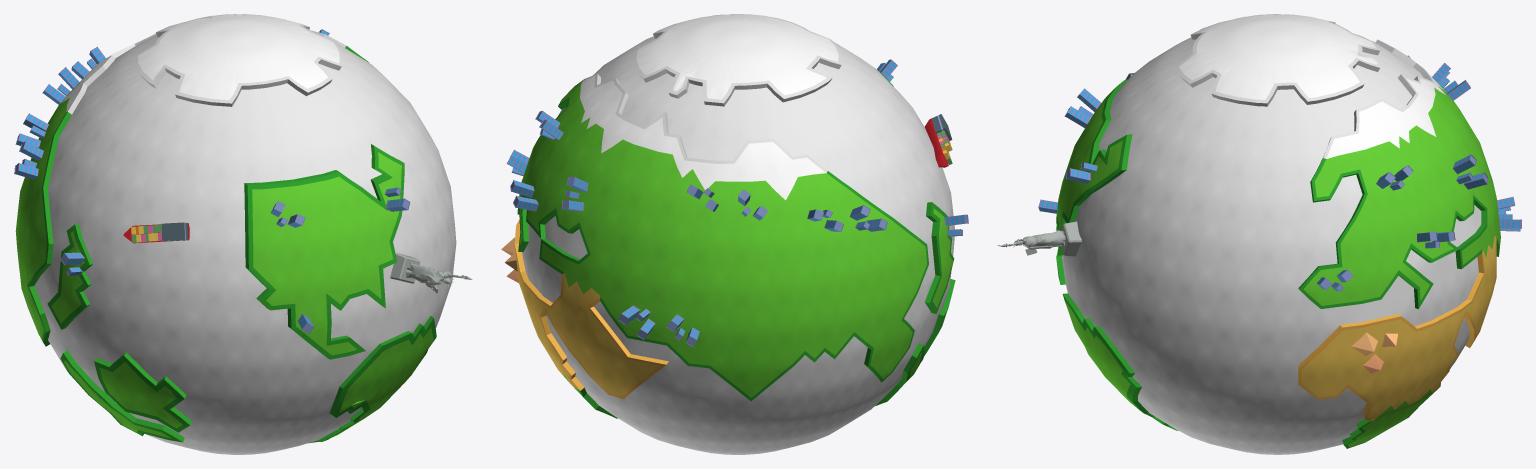
Rendered from Earth.fbx.
3 views of the same model, side by side, from view 1: azimuth 30°, elevation 25°; view 2: azimuth 150°, elevation 25°; view 3: azimuth 270°, elevation 25° (orthographic).
Visible parts, largest first — view 1: Earth_Base, Sphere.001, Sphere.006, Sphere.002, Sphere.003, Sphere.005, Sphere.004, Statue, Ship, House.013, House.012, House.017; view 2: Sphere.002, Earth_Base, Sphere.006, Sphere.005, Ship, Sphere.004, House.004, House.007, House.014, House.013, House.003, Sphere.003; view 3: Earth_Base, Sphere.002, Sphere.006, Sphere.001, Statue, Pyramid, House.007, House.008.
Part boxes in pixels (bbox=[...]): Earth_Base: bbox=[34, 35, 456, 454]; Sphere.001: bbox=[244, 144, 436, 443]; Sphere.006: bbox=[134, 14, 343, 106]; Sphere.002: bbox=[15, 30, 368, 346]; Sphere.003: bbox=[94, 352, 191, 432]; Sphere.005: bbox=[47, 224, 92, 329]; Sphere.004: bbox=[60, 350, 184, 442]; Statue: bbox=[390, 253, 472, 293]; Ship: bbox=[123, 222, 189, 243]; House.013: bbox=[14, 141, 43, 179]; House.012: bbox=[15, 113, 48, 147]; House.017: bbox=[42, 67, 79, 104]; Sphere.002: bbox=[514, 73, 928, 418]; Earth_Base: bbox=[522, 36, 954, 454]; Sphere.006: bbox=[633, 14, 842, 106]; Sphere.005: bbox=[925, 202, 954, 314]; Ship: bbox=[925, 114, 952, 167]; Sphere.004: bbox=[874, 343, 924, 406]; House.004: bbox=[510, 180, 538, 211]; House.007: bbox=[562, 176, 588, 211]; House.014: bbox=[618, 305, 655, 339]; House.013: bbox=[849, 205, 887, 231]; House.003: bbox=[535, 110, 563, 139]; Sphere.003: bbox=[923, 279, 955, 356]; Earth_Base: bbox=[1061, 33, 1481, 454]; Sphere.002: bbox=[1298, 39, 1500, 448]; Sphere.006: bbox=[1175, 14, 1381, 106]; Sphere.001: bbox=[1056, 79, 1178, 430]; Statue: bbox=[997, 221, 1081, 256]; Pyramid: bbox=[1351, 332, 1397, 373]; House.007: bbox=[1453, 154, 1488, 189]; House.008: bbox=[1064, 88, 1101, 128].
Bounding box in the file's own units: 215 × 202 × 241.
